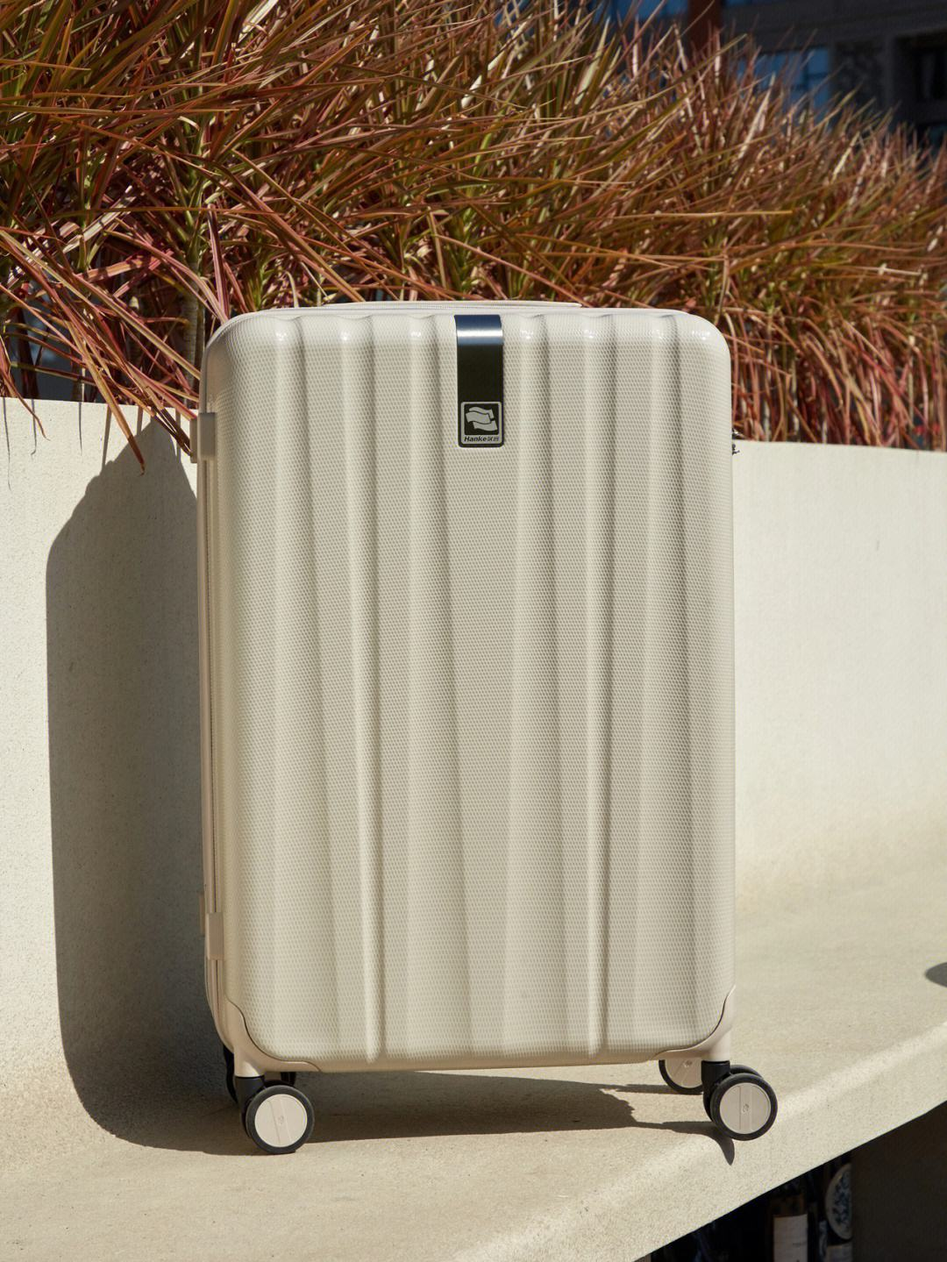box: (196, 302, 737, 1070)
wheel: (702, 1064, 779, 1141), (242, 1084, 315, 1155), (658, 1052, 714, 1094)
